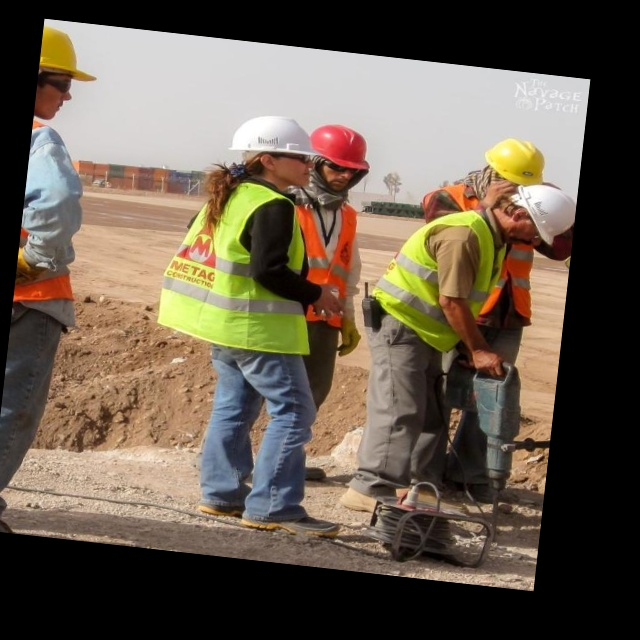Con_Casco: (226, 110, 326, 188), (34, 26, 102, 124)
Con_Chaleco: (159, 174, 328, 350), (381, 206, 514, 343)
